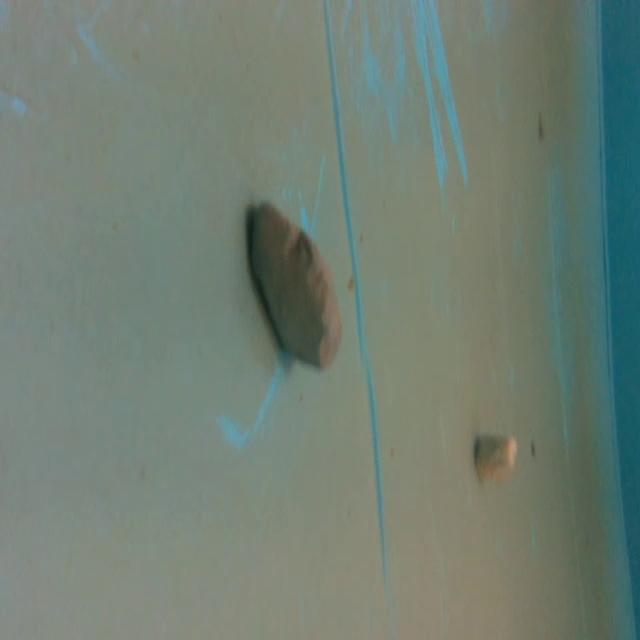rock: (243, 191, 352, 381), (472, 432, 524, 488)
